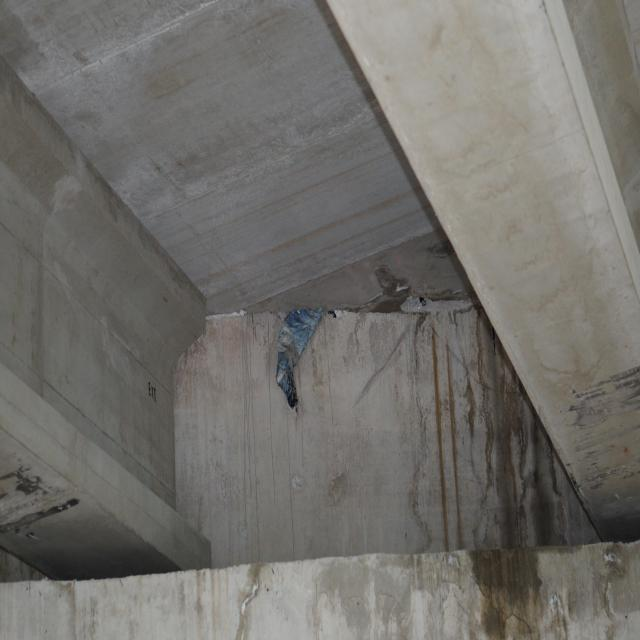horizontal crack: (303, 571, 542, 640)
